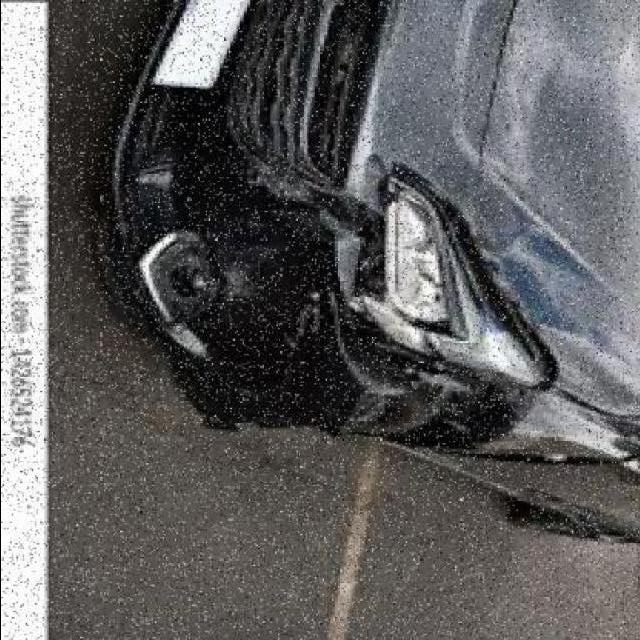Headlight-Damage: (346, 169, 555, 396)
fender-dent: (289, 389, 592, 465)
front-bumper-dent: (114, 0, 360, 424)
